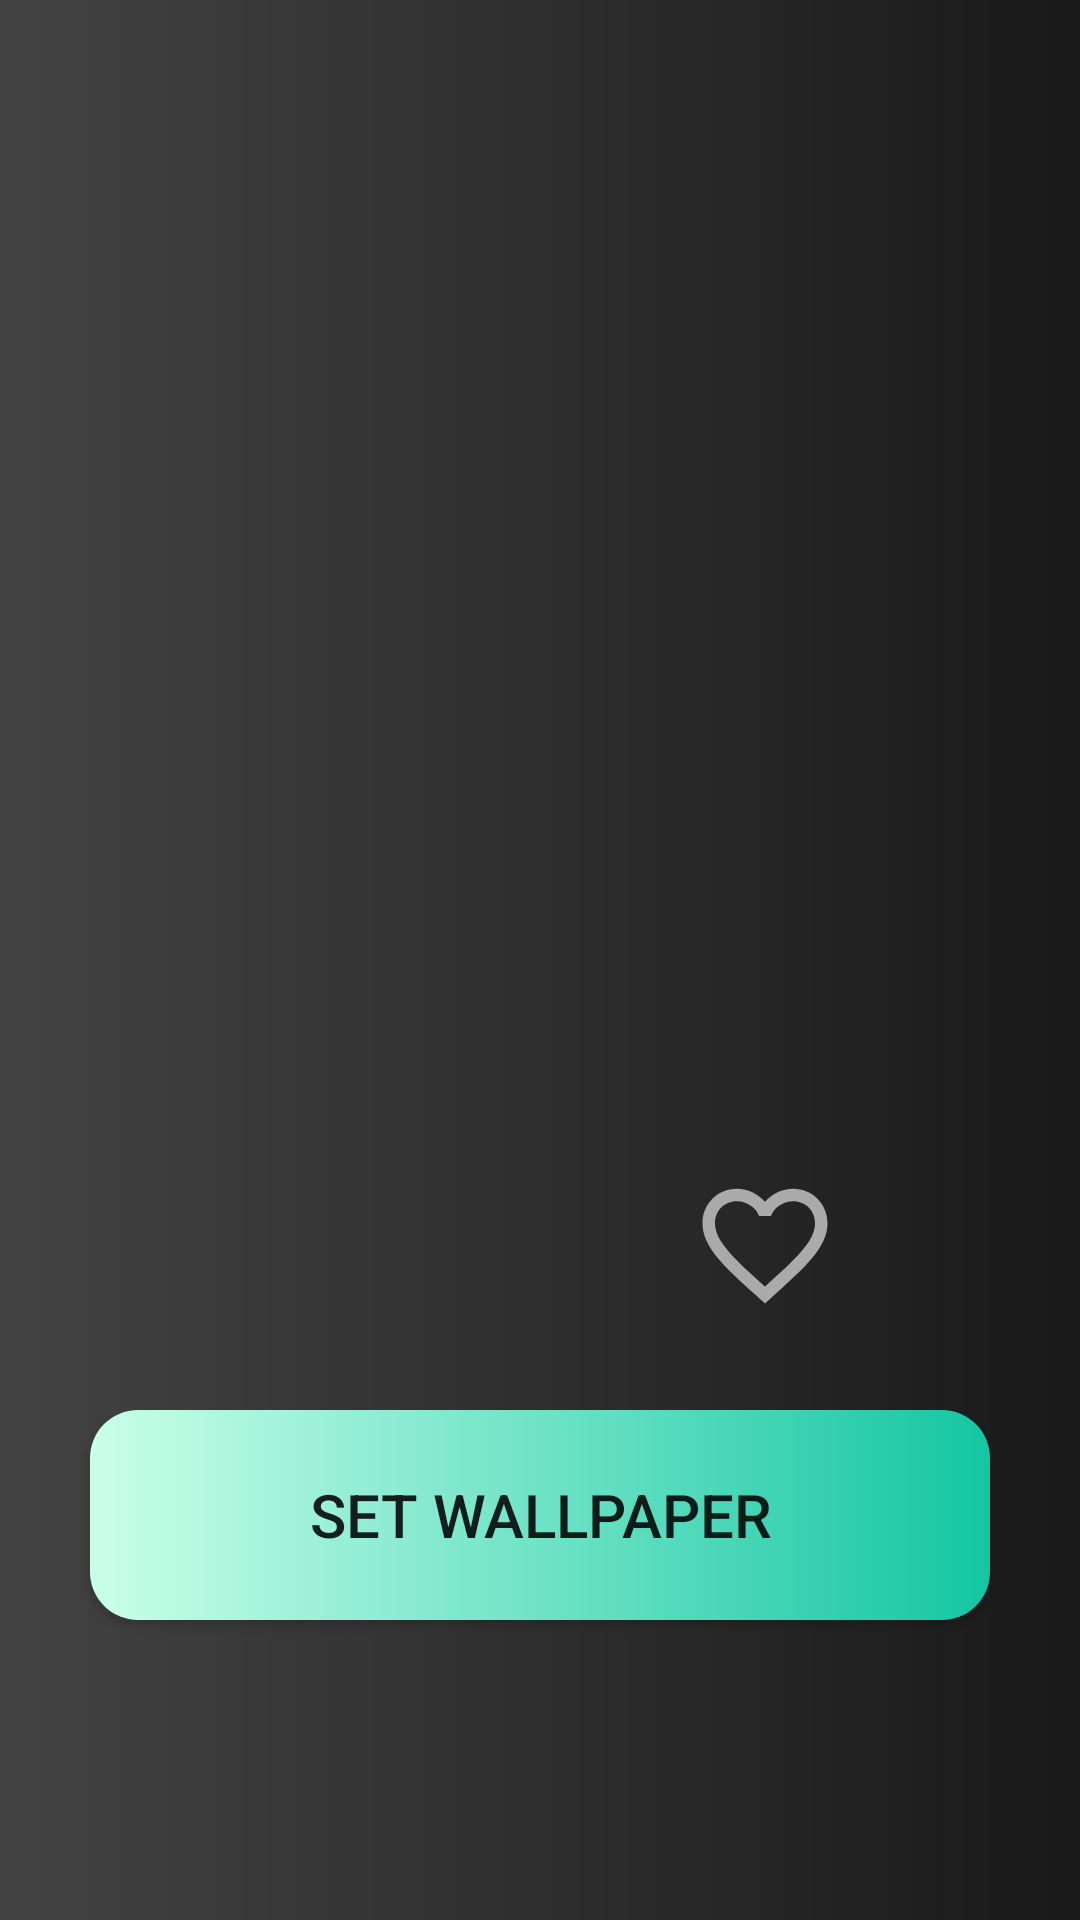

Screen size 1080*1920. Icon name, then its center in pixels as (x,y):
favorites: (765,1245)
